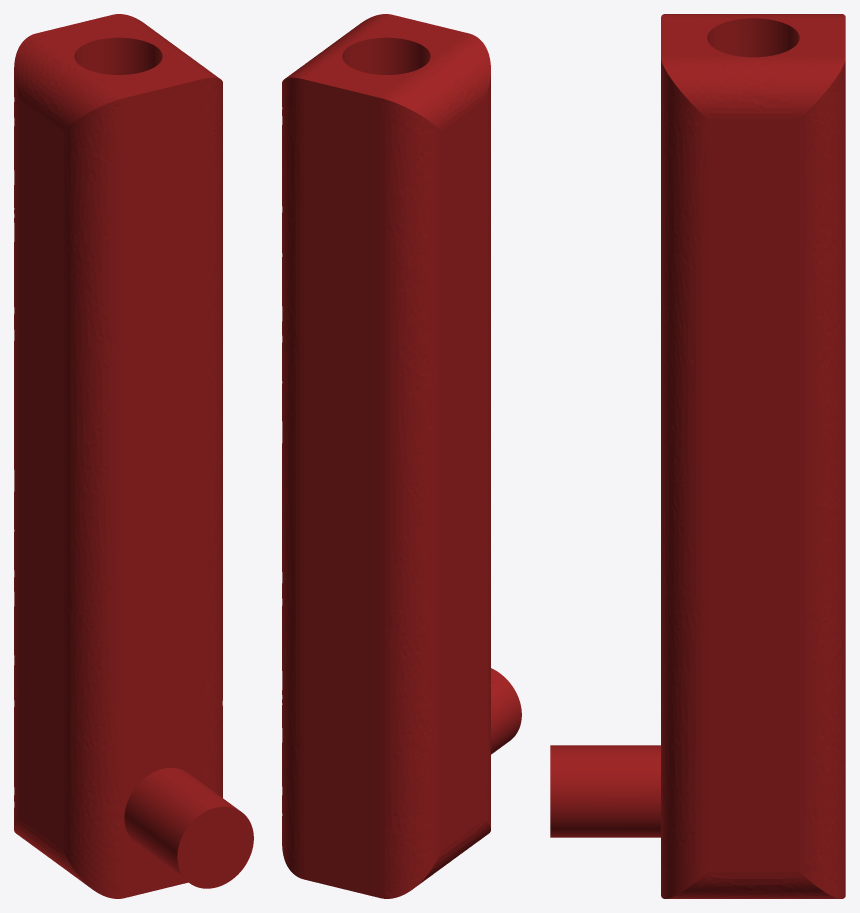
The model's file is joint3.dae.
3 renders of one model, left to right at view 1: azimuth 30°, elevation 25°; view 2: azimuth 150°, elevation 25°; view 3: azimuth 270°, elevation 25°, orthographic. The views are drawn at different scales.
Parts seen in each view (by area): view 1: node0; view 2: node0; view 3: node0.
Boxes of the visible parts, <box> form: node0: <box>14,14,253,898</box>; node0: <box>282,14,521,898</box>; node0: <box>550,14,845,898</box>.
Size of the model in its own units: 0.1 by 0.16 by 0.5.
